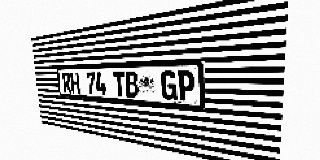4: (95, 72, 107, 96)
7: (85, 72, 96, 95)
B: (125, 71, 139, 98)
G: (161, 71, 177, 100)
H: (70, 72, 80, 94)
P: (177, 70, 195, 102)
R: (62, 73, 72, 93)
T: (113, 72, 126, 97)
